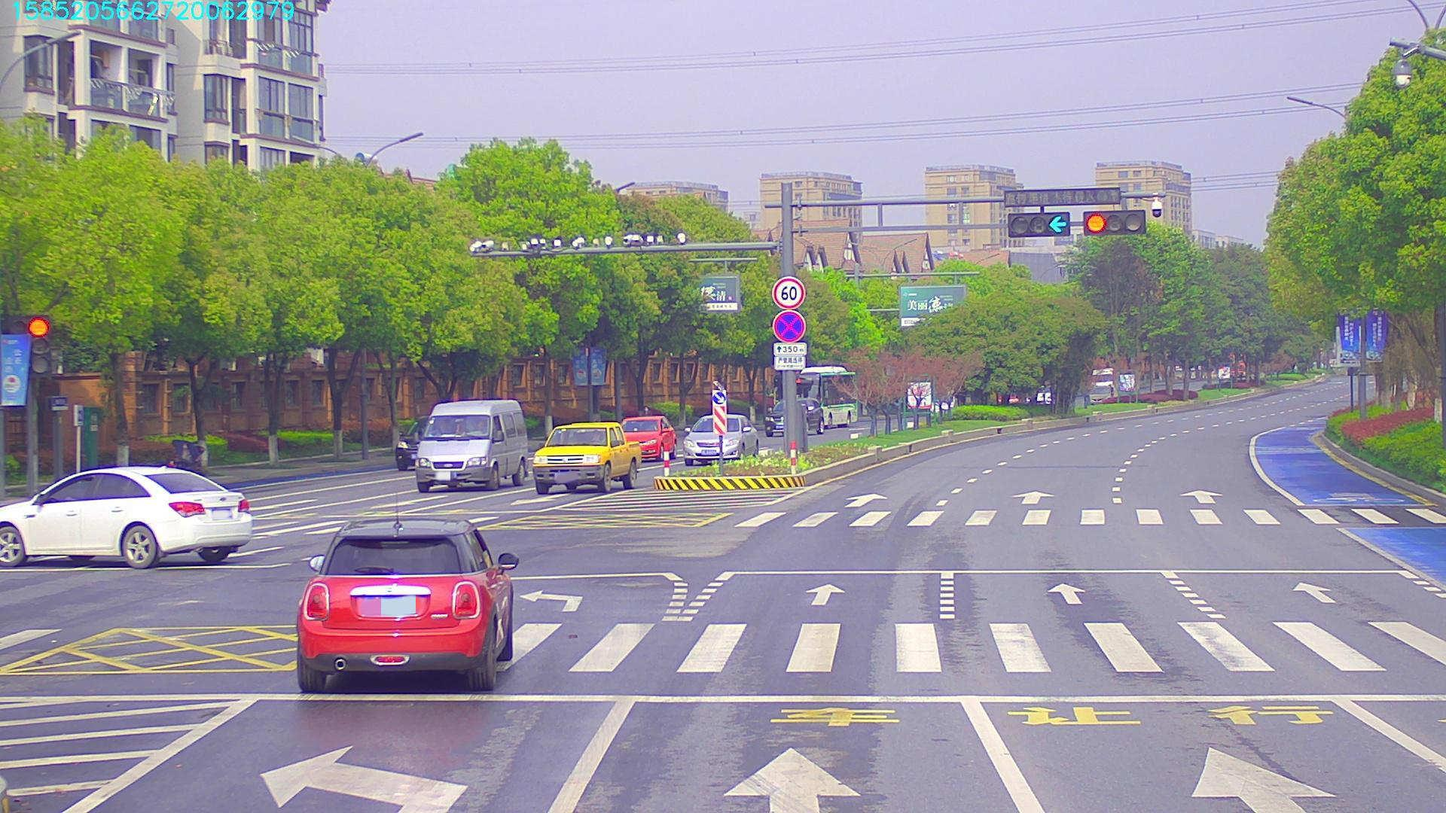green: (1005, 215, 1070, 235)
red: (1088, 211, 1150, 233)
